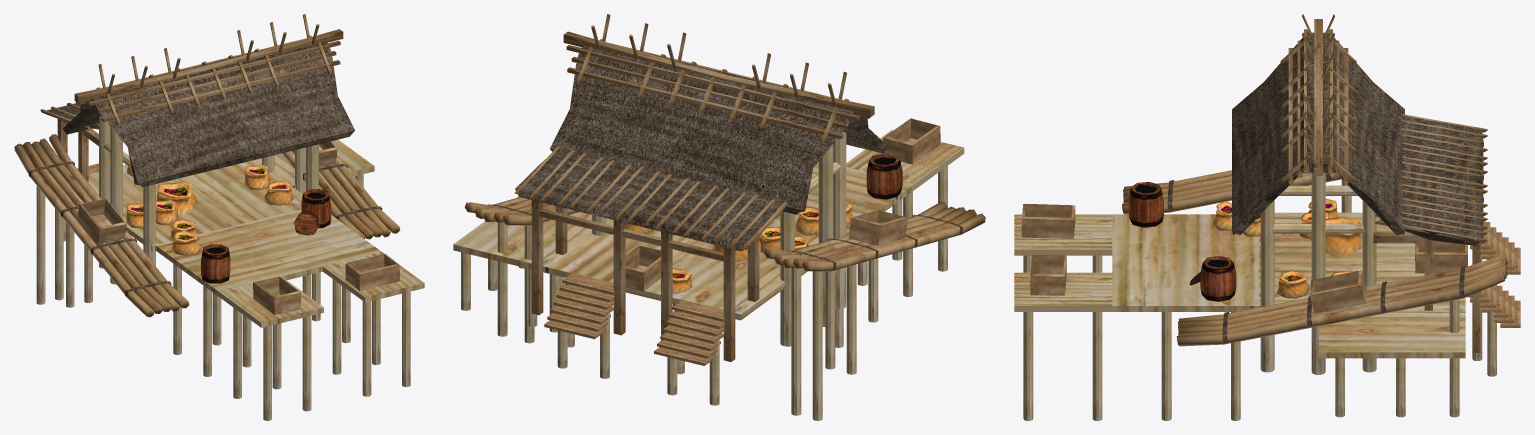
Rendered from yayoi_dock.dae.
3 renders of one model, left to right at view 1: azimuth 30°, elevation 25°; view 2: azimuth 150°, elevation 25°; view 3: azimuth 270°, elevation 25°, orthographic. The views are drawn at different scales.
Parts seen in each view (by area): view 1: dock; view 2: dock; view 3: dock.
Boxes of the visible parts, x1,y1,x2,y2 form: dock: (14,14,424,420); dock: (453,14,985,420); dock: (1014,14,1520,420).
Bounding box in the file's own units: 21.74 × 26.54 × 17.74.
Materials: 1 (1 with a texture image).
